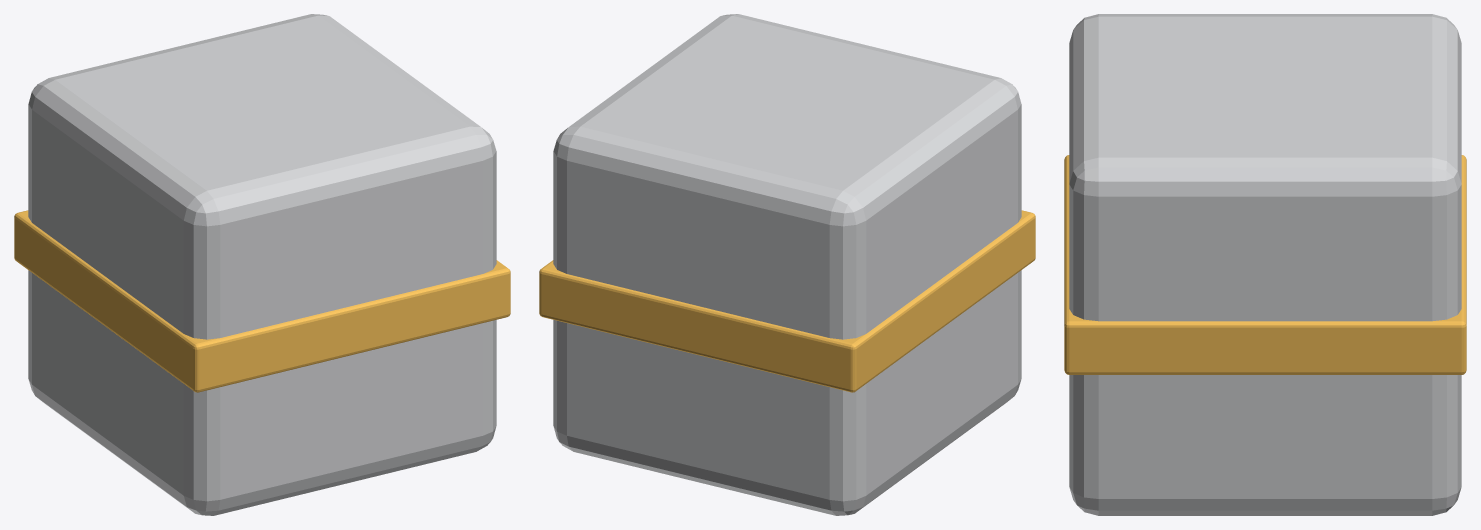
The picture shows the model from 3 angles, left to right: view 1: azimuth 30°, elevation 25°; view 2: azimuth 150°, elevation 25°; view 3: azimuth 270°, elevation 25°; orthographic projection. The views are drawn at different scales.
Visible parts, largest first — view 1: body, stripe; view 2: body, stripe; view 3: body, stripe.
Boxes of the visible parts, x1,y1,x2,y2 form: body: (28, 14, 496, 515); stripe: (14, 210, 510, 392); body: (553, 14, 1021, 515); stripe: (539, 210, 1035, 392); body: (1069, 14, 1461, 515); stripe: (1064, 155, 1466, 374).
Size of the model in its own units: 0.41 by 0.4 by 0.41.
